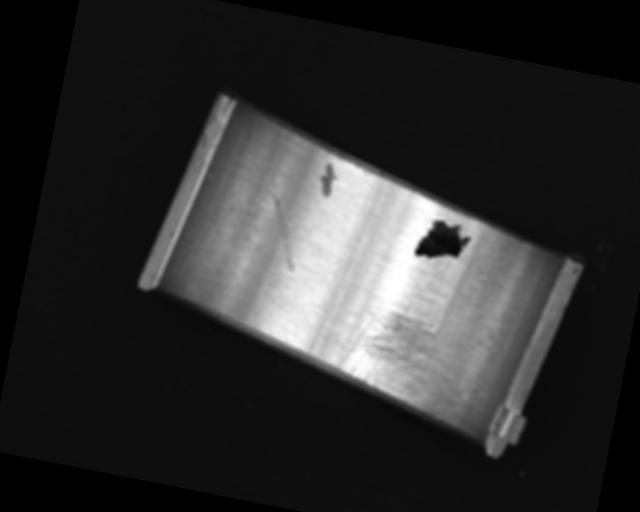blot: (413, 214, 475, 267)
bruise: (315, 160, 340, 199)
nick: (332, 173, 380, 304), (257, 190, 308, 274)
scratch: (330, 289, 477, 424)
